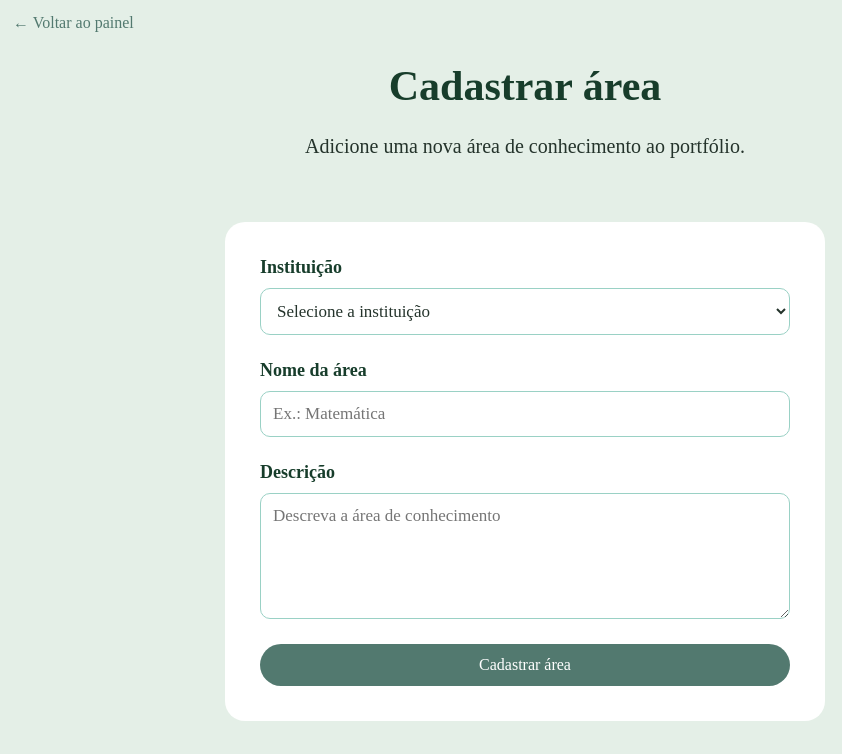
Página CadastroArea › Deve cadastrar uma área com sucesso
Select "SESI" in the dropdown labelled "Instituição": point(525, 312) [260, 288, 790, 335]
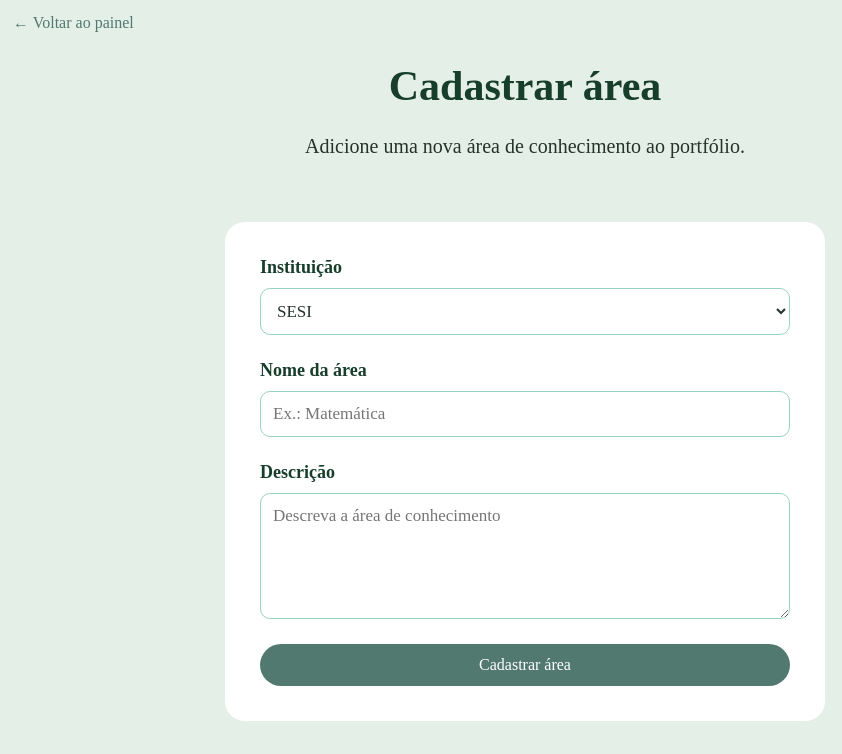
In the field labelled "Nome da área": point(525, 414) [260, 391, 790, 437], type "Matemática"
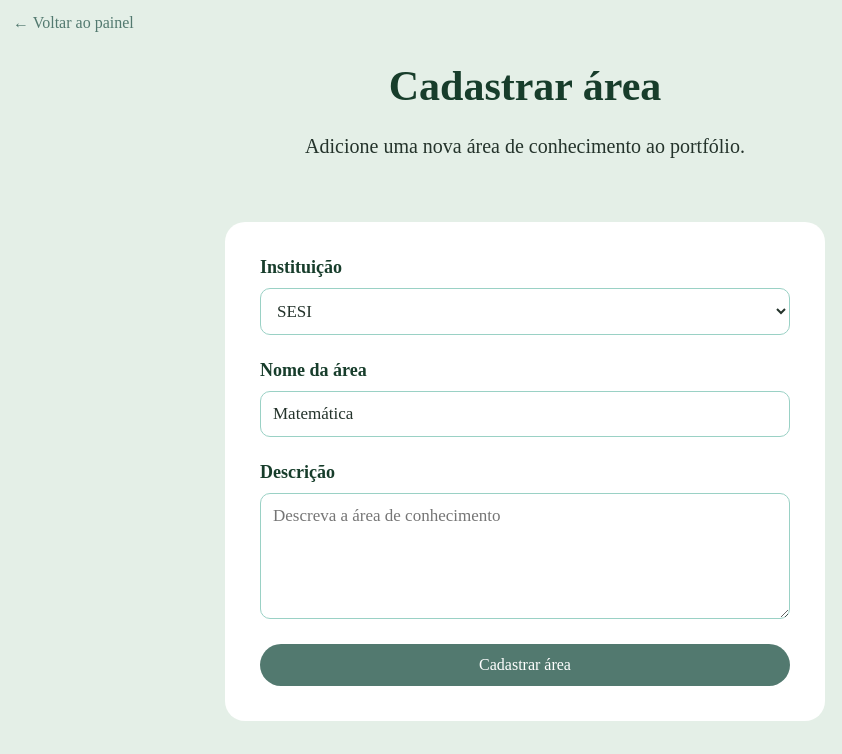
In the text box labelled "Descrição": point(525, 556) [260, 493, 790, 619], type "Área de conhecimento"
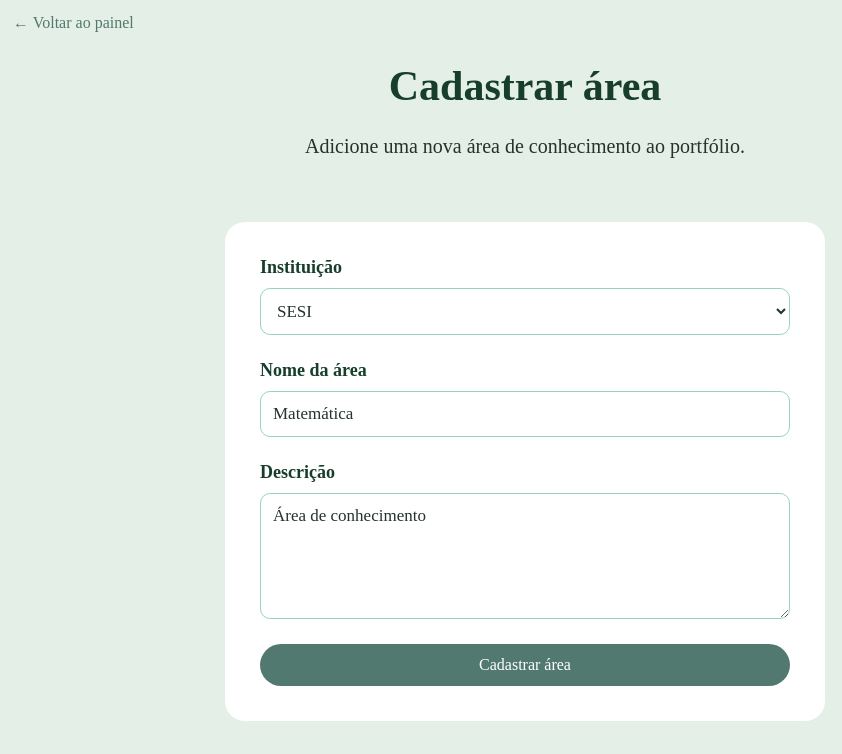
Click the button "Cadastrar área": point(525, 665) [260, 644, 790, 686]
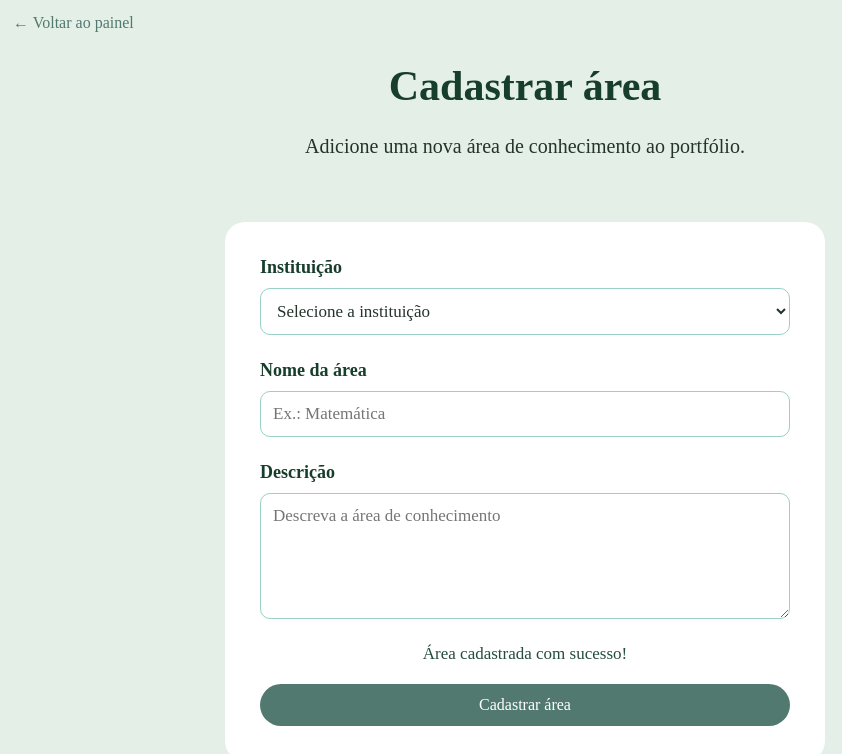
Expected: the message reads "Área cadastrada com sucesso!", [423, 644, 627, 663]
